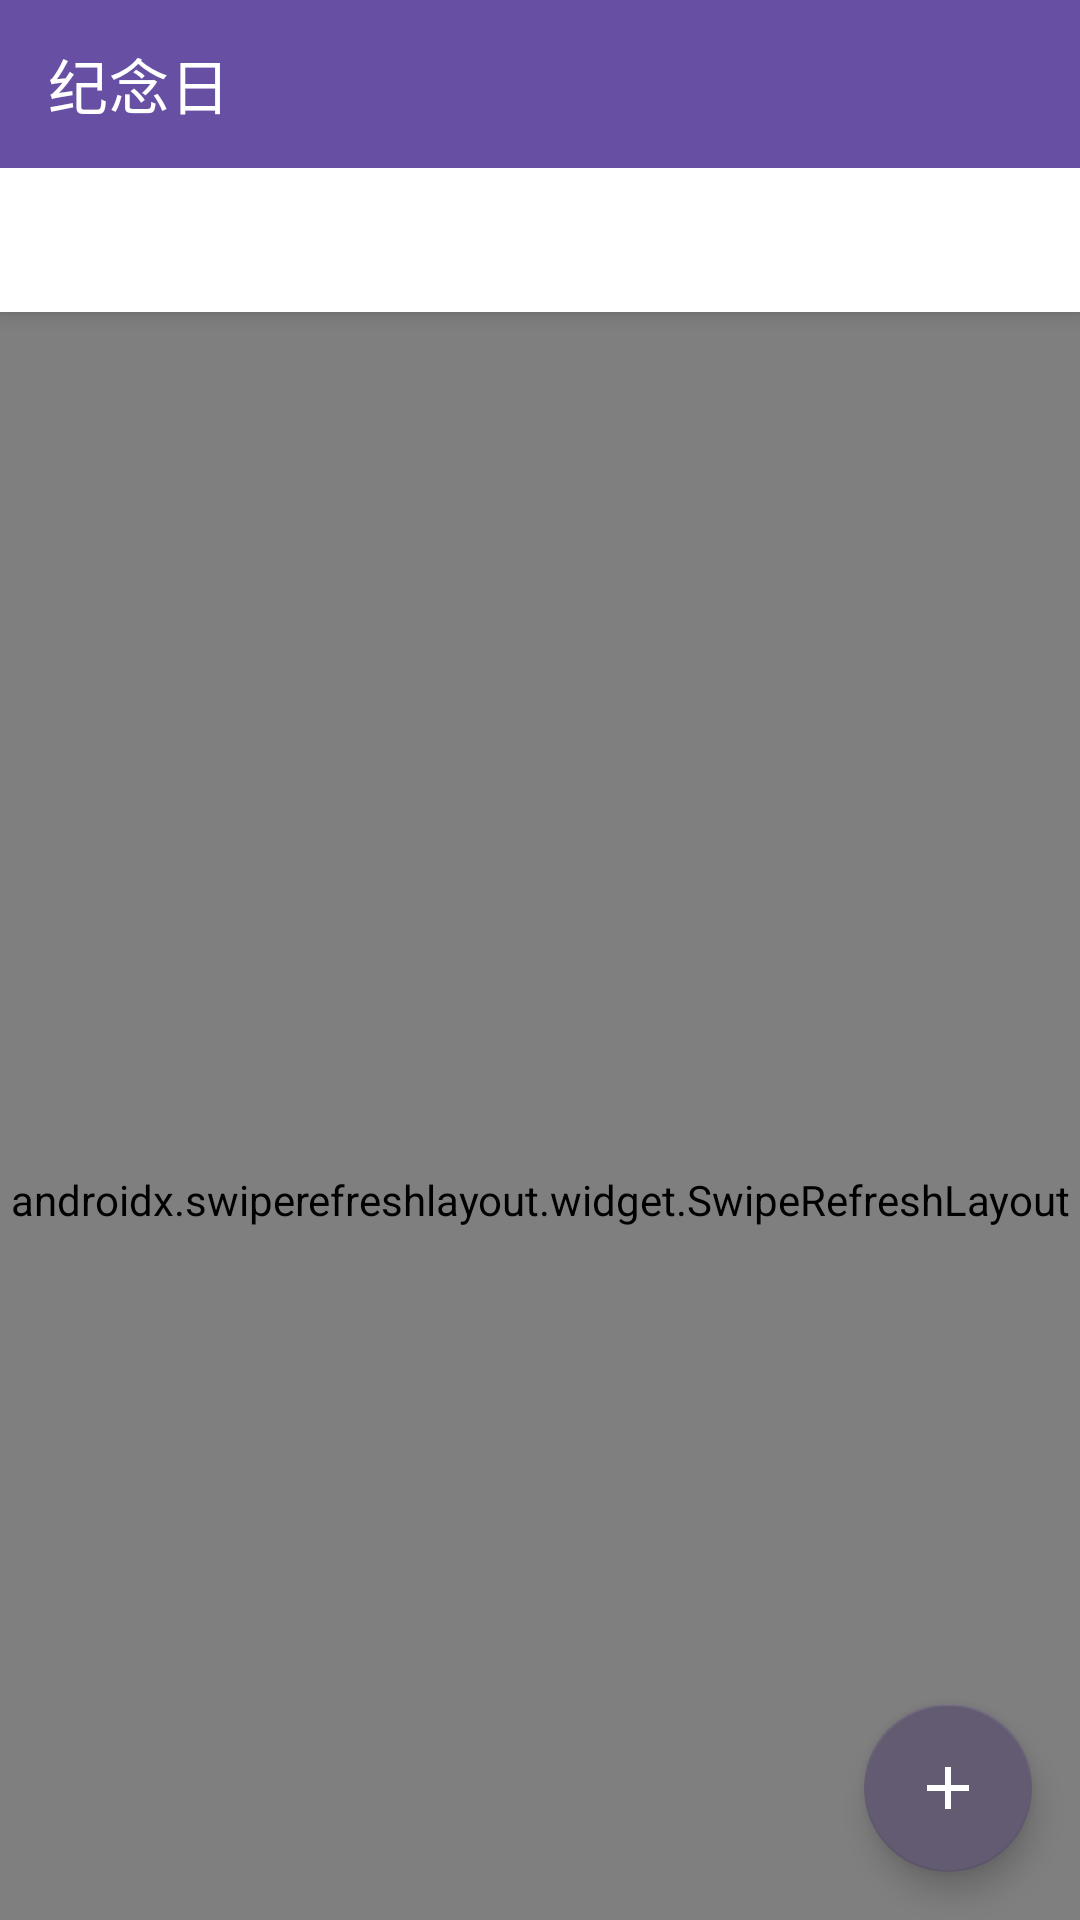

Where icons sit on this 1080px x 1920px app screen, as (x1, y1, x2, y2):
添加纪念日: (864, 1706, 1032, 1872)
